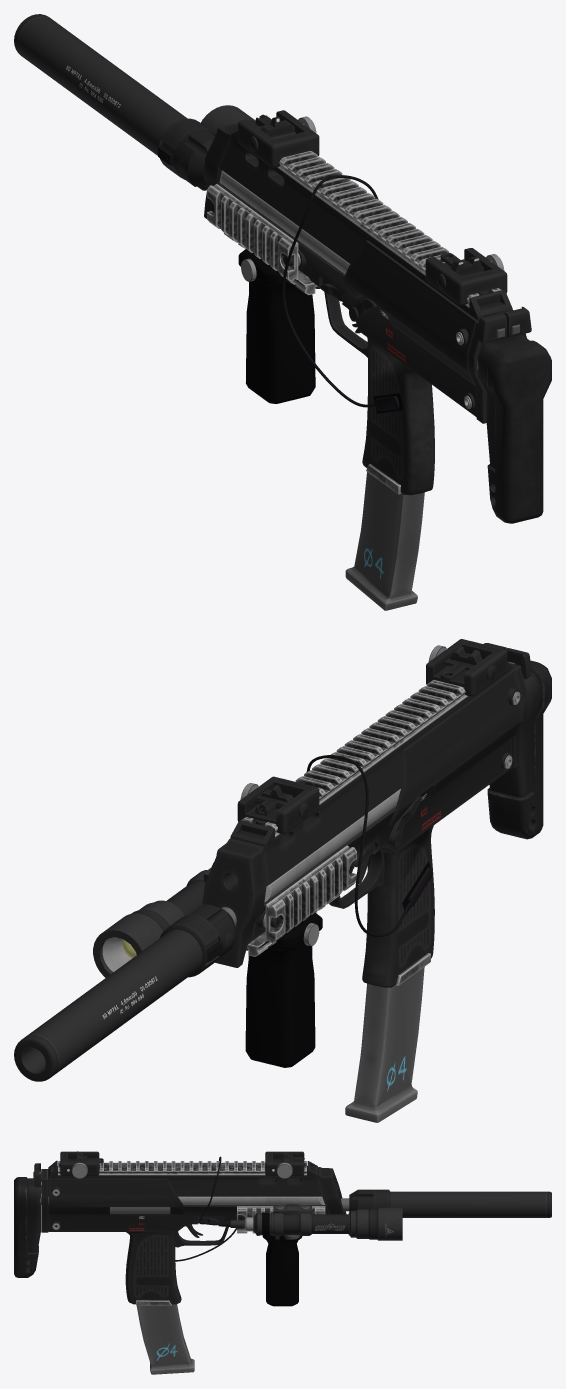
3 renders of one model, top to bottom at view 1: azimuth 30°, elevation 25°; view 2: azimuth 150°, elevation 25°; view 3: azimuth 270°, elevation 25°, orthographic. The views are drawn at different scales.
Visible parts, largest first — view 1: Vis_left_0_GREEN_MAT_0, Receiver2_BLUE_MAT_0, polySurface135_ORANGE_MAT_0, polySurface114_Suppressor_MAT_0, polySurface143_Handle_MAT_0, polySurface84_RED_MAT_0, pDisc1_Wire_MAT_0; view 2: Vis_left_0_GREEN_MAT_0, Receiver2_BLUE_MAT_0, polySurface135_ORANGE_MAT_0, polySurface114_Suppressor_MAT_0, polySurface143_Handle_MAT_0, polySurface84_RED_MAT_0, pDisc1_Wire_MAT_0; view 3: Vis_left_0_GREEN_MAT_0, Receiver2_BLUE_MAT_0, polySurface135_ORANGE_MAT_0, polySurface114_Suppressor_MAT_0, polySurface84_RED_MAT_0, polySurface143_Handle_MAT_0, pDisc1_Wire_MAT_0.
Part boxes in pixels (<box>): Vis_left_0_GREEN_MAT_0: <box>203,110,526,494</box>; Receiver2_BLUE_MAT_0: <box>216,126,512,495</box>; polySurface135_ORANGE_MAT_0: <box>345,306,551,610</box>; polySurface114_Suppressor_MAT_0: <box>14,14,215,190</box>; polySurface143_Handle_MAT_0: <box>238,248,315,403</box>; polySurface84_RED_MAT_0: <box>201,105,403,413</box>; pDisc1_Wire_MAT_0: <box>282,175,378,407</box>; Vis_left_0_GREEN_MAT_0: <box>202,639,528,985</box>; Receiver2_BLUE_MAT_0: <box>230,661,512,987</box>; polySurface135_ORANGE_MAT_0: <box>221,643,551,1122</box>; polySurface114_Suppressor_MAT_0: <box>14,904,235,1081</box>; polySurface143_Handle_MAT_0: <box>245,912,322,1067</box>; polySurface84_RED_MAT_0: <box>93,860,432,977</box>; pDisc1_Wire_MAT_0: <box>306,755,410,936</box>; Vis_left_0_GREEN_MAT_0: <box>40,1151,346,1305</box>; Receiver2_BLUE_MAT_0: <box>48,1160,329,1304</box>; polySurface135_ORANGE_MAT_0: <box>14,1163,349,1374</box>; polySurface114_Suppressor_MAT_0: <box>349,1189,551,1217</box>; polySurface84_RED_MAT_0: <box>218,1204,402,1240</box>; polySurface143_Handle_MAT_0: <box>237,1228,302,1306</box>; pDisc1_Wire_MAT_0: <box>175,1156,236,1261</box>.
Bounding box in the file's own units: 0.0943 × 0.3135 × 0.7.
Materials: 8 (8 with a texture image).
